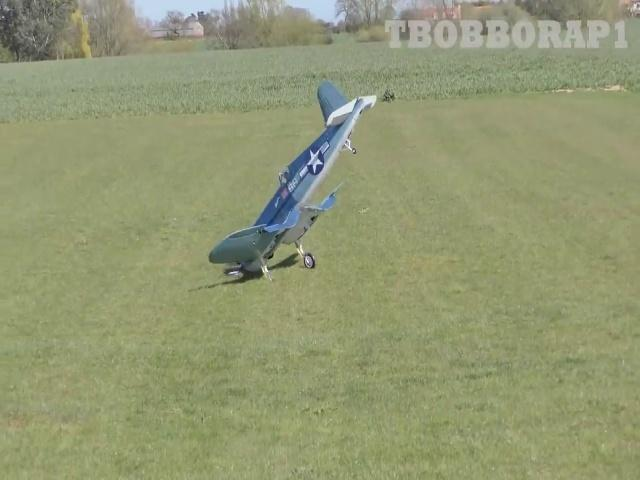Airplane: (209, 82, 377, 281)
